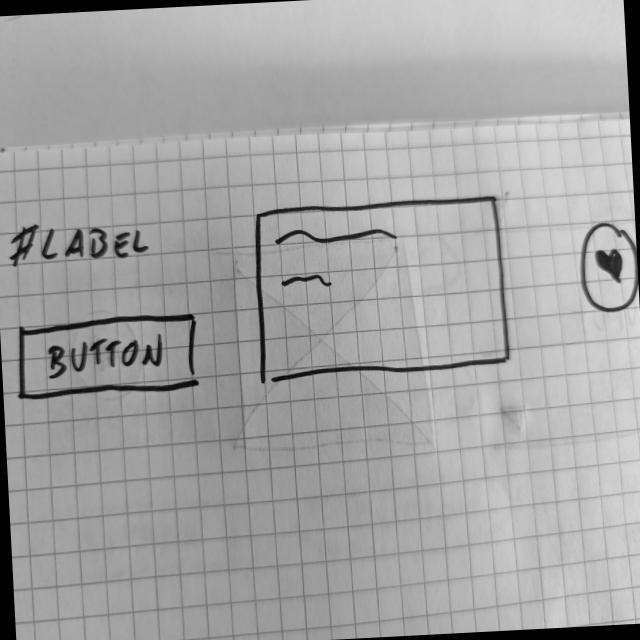button: (13, 309, 205, 407)
icon-button: (574, 218, 640, 318)
label: (6, 214, 152, 275)
textarea: (248, 189, 514, 388)
